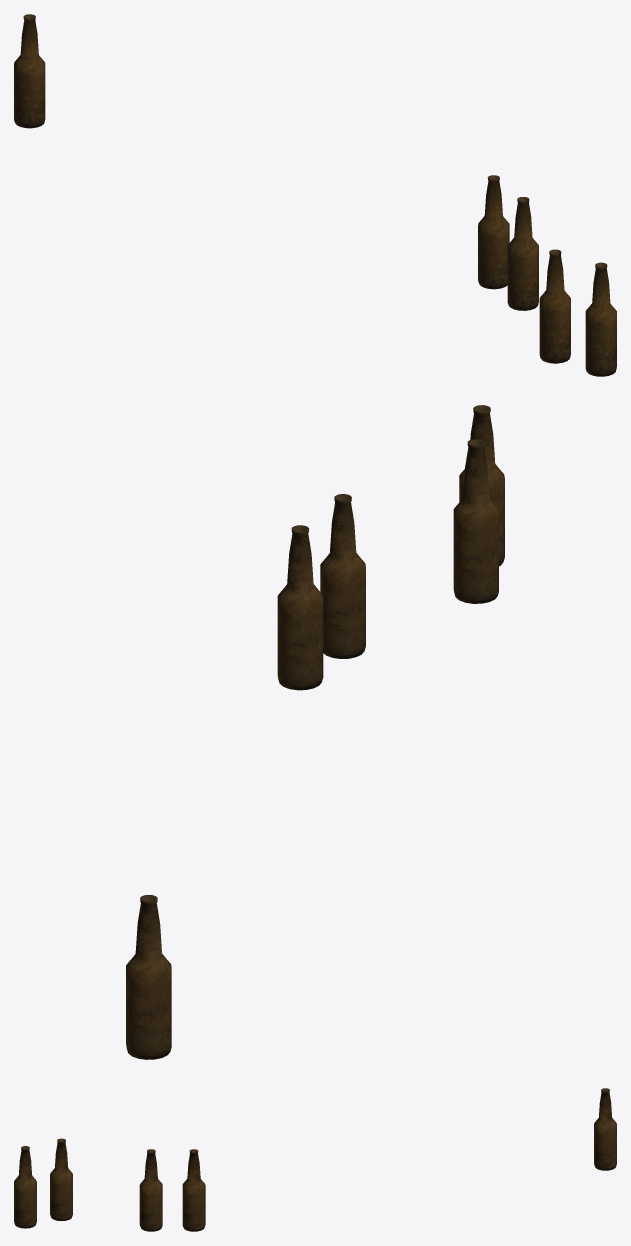
3 views of the same model, one above another, from view 1: azimuth 30°, elevation 25°; view 2: azimuth 150°, elevation 25°; view 3: azimuth 270°, elevation 25° (orthographic). The views are drawn at different scales.
Visible parts, largest first — view 1: beer.008; view 2: beer.008; view 3: beer.008.
Part boxes in pixels (x1,y1,x2,y2): beer.008: [14, 14, 616, 376]; beer.008: [126, 405, 504, 1059]; beer.008: [14, 1088, 616, 1231].
Bounding box in the file's own units: 1.44 × 0.7189 × 5.
Materials: 1 (1 with a texture image).
